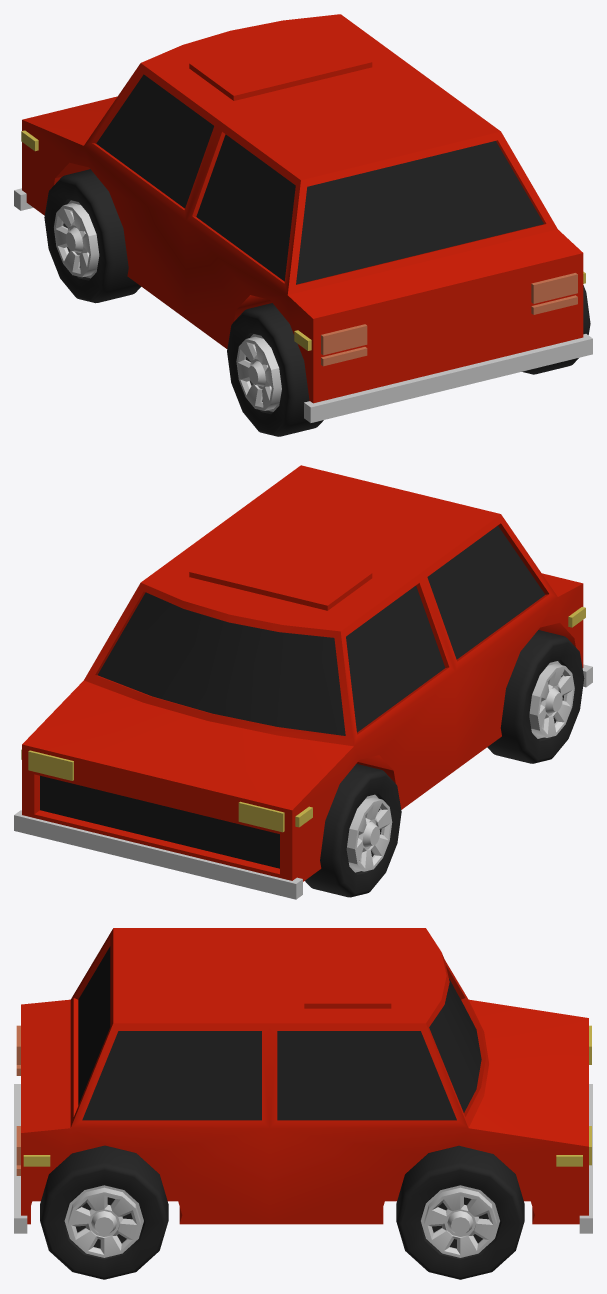
File: car3.dae
3 renders of one model, top to bottom at view 1: azimuth 30°, elevation 25°; view 2: azimuth 150°, elevation 25°; view 3: azimuth 270°, elevation 25°, orthographic. The views are drawn at different scales.
Visible parts, largest first — view 1: Cube_001, Cylinder_009, Cylinder_008, Cylinder_011; view 2: Cube_001, Cylinder_008, Cylinder_009; view 3: Cube_001, Cylinder_011, Cylinder_010.
Part boxes in pixels (bbox=[...]): Cube_001: bbox=[14, 14, 592, 422]; Cylinder_009: bbox=[44, 169, 141, 303]; Cylinder_008: bbox=[227, 303, 323, 436]; Cylinder_011: bbox=[522, 285, 590, 374]; Cube_001: bbox=[14, 465, 592, 899]; Cylinder_008: bbox=[487, 630, 584, 763]; Cylinder_009: bbox=[305, 763, 401, 897]; Cube_001: bbox=[14, 928, 592, 1233]; Cylinder_011: bbox=[40, 1145, 168, 1279]; Cylinder_010: bbox=[396, 1145, 524, 1279].
Bounding box in the file's own units: 3.98 × 6.58 × 2.98.
